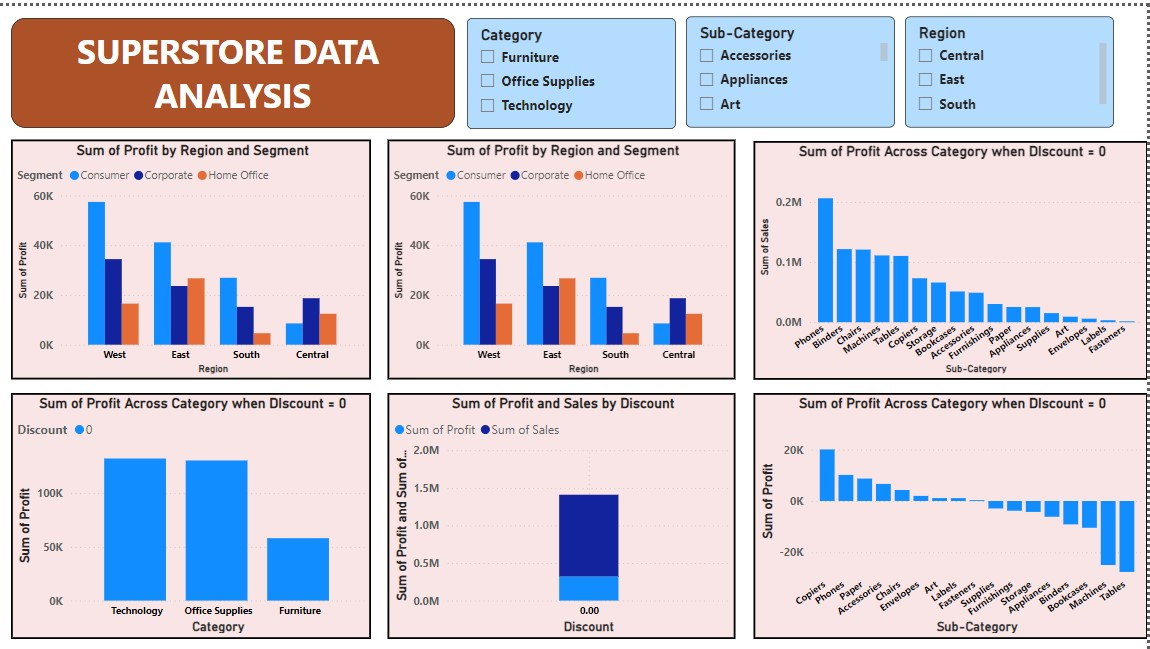

The page's visual inventory and layout, read from the dashboard file:
{"tool":"powerbi","page":{"name":"Page 1","canvas":[1280,720],"ordinal":0},"visuals":[{"type":"clusteredColumnChart","title":"Sum of Profit Across Category when DIscount = 0","fields":{"Y":["Sum(SampleSuperstore.Profit)"],"Category":["SampleSuperstore.Category"],"Series":["SampleSuperstore.Discount"]},"box":[16.7,430,400,273.3],"z":0},{"type":"textbox","box":[16.7,13.3,493.3,121.7],"z":1},{"type":"lineStackedColumnComboChart","title":"Sum of Profit and Sales by Discount","fields":{"Y":["Sum(SampleSuperstore.Profit)","Sum(SampleSuperstore.Sales)"],"Category":["SampleSuperstore.Discount"]},"box":[435,430,386.7,273.3],"z":2},{"type":"slicer","fields":{"Values":["SampleSuperstore.Category"]},"box":[523.3,13.3,231.7,123.3],"z":3},{"type":"slicer","fields":{"Values":["SampleSuperstore.Sub-Category"]},"box":[766.7,11.7,231.7,123.3],"z":4},{"type":"slicer","fields":{"Values":["SampleSuperstore.Region"]},"box":[1010,11.7,231.7,123.3],"z":5},{"type":"clusteredColumnChart","title":"Sum of Profit Across Category when DIscount = 0","fields":{"Category":["SampleSuperstore.Sub-Category"],"Y":["Sum(SampleSuperstore.Profit)"]},"box":[841.7,430,438.3,273.3],"z":6},{"type":"clusteredColumnChart","title":"Sum of Profit Across Category when DIscount = 0","fields":{"Category":["SampleSuperstore.Sub-Category"],"Y":["Sum(SampleSuperstore.Sales)"]},"box":[841.7,150,438.3,265],"z":7},{"type":"clusteredColumnChart","fields":{"Y":["Sum(SampleSuperstore.Profit)"],"Category":["SampleSuperstore.Region"],"Series":["SampleSuperstore.Segment"]},"box":[16.7,148.3,400,266.7],"z":8},{"type":"clusteredColumnChart","fields":{"Y":["Sum(SampleSuperstore.Profit)"],"Category":["SampleSuperstore.Region"],"Series":["SampleSuperstore.Segment"]},"box":[435,148.3,386.7,266.7],"z":9}]}

Visuals, with their boxes in screenshot pixels (x1, y1, x2, y2), scaled from the page's 1280x720 canvas onto the 1150x649 screenshot:
"Sum of Profit Across Category when DIscount = 0" clusteredColumnChart: <region>15, 388, 374, 634</region>
textbox: <region>15, 12, 458, 122</region>
"Sum of Profit and Sales by Discount" lineStackedColumnComboChart: <region>391, 388, 738, 634</region>
slicer - SampleSuperstore.Category: <region>470, 12, 678, 123</region>
slicer - SampleSuperstore.Sub-Category: <region>689, 11, 897, 122</region>
slicer - SampleSuperstore.Region: <region>907, 11, 1116, 122</region>
"Sum of Profit Across Category when DIscount = 0" clusteredColumnChart: <region>756, 388, 1149, 634</region>
"Sum of Profit Across Category when DIscount = 0" clusteredColumnChart: <region>756, 135, 1149, 374</region>
clusteredColumnChart - Sum(SampleSuperstore.Profit) x SampleSuperstore.Region: <region>15, 134, 374, 374</region>
clusteredColumnChart - Sum(SampleSuperstore.Profit) x SampleSuperstore.Region: <region>391, 134, 738, 374</region>
